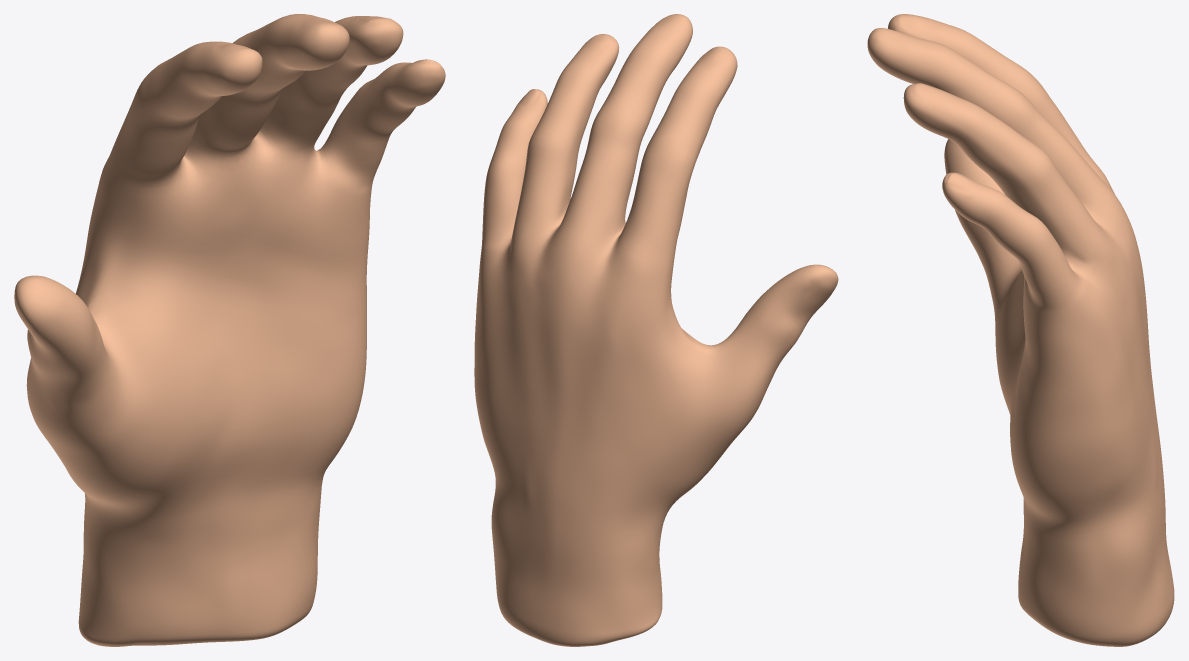
The model's file is newhand.glb.
The picture shows the model from 3 angles, left to right: view 1: azimuth 30°, elevation 25°; view 2: azimuth 150°, elevation 25°; view 3: azimuth 270°, elevation 25°; orthographic projection. The views are drawn at different scales.
Visible parts, largest first — view 1: node_id33; view 2: node_id33; view 3: node_id33.
Boxes of the visible parts, box(x1,y1,x2,y2) form: node_id33: box(14, 14, 445, 646); node_id33: box(474, 14, 838, 646); node_id33: box(867, 14, 1174, 646).
Size of the model in its own units: 0.3071 by 0.49 by 0.2328.
1 material, 1 textured.
